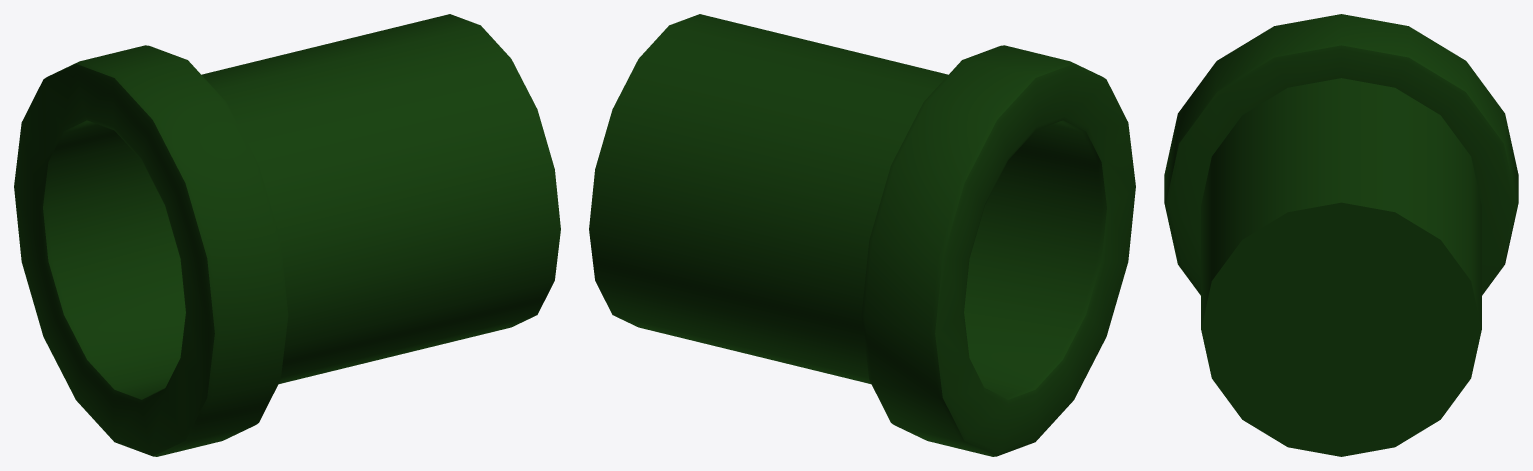
Rendered from Pipe.FBX.
3 views of the same model, side by side, from view 1: azimuth 30°, elevation 25°; view 2: azimuth 150°, elevation 25°; view 3: azimuth 270°, elevation 25° (orthographic). The views are drawn at different scales.
Parts seen in each view (by area): view 1: Cylinder002; view 2: Cylinder002; view 3: Cylinder002.
Part boxes in pixels (x1,y1,x2,y2): Cylinder002: (14,14,560,456); Cylinder002: (589,14,1135,456); Cylinder002: (1164,14,1518,456).
Size of the model in its own units: 137 by 131 by 131.
